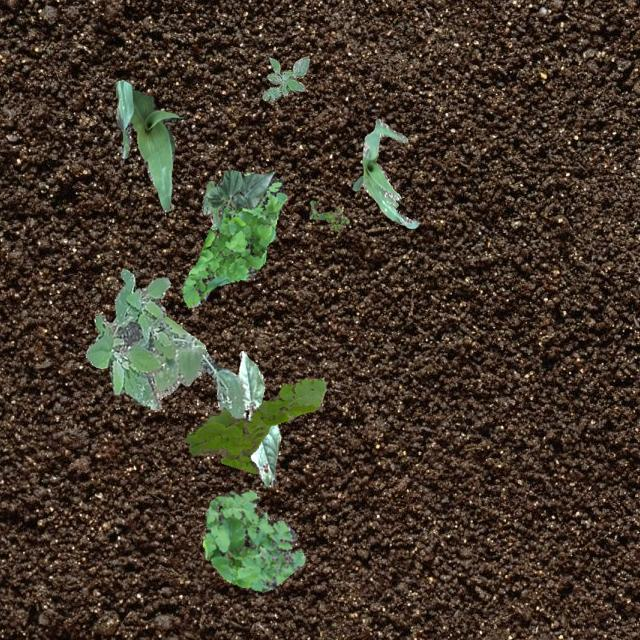crop: (115, 78, 182, 210), (352, 118, 418, 228), (237, 350, 280, 486), (200, 168, 274, 226)
weed: (180, 176, 286, 306), (183, 377, 324, 472), (84, 268, 170, 410), (202, 488, 304, 590), (148, 314, 244, 418), (262, 56, 308, 100), (308, 200, 348, 230)
